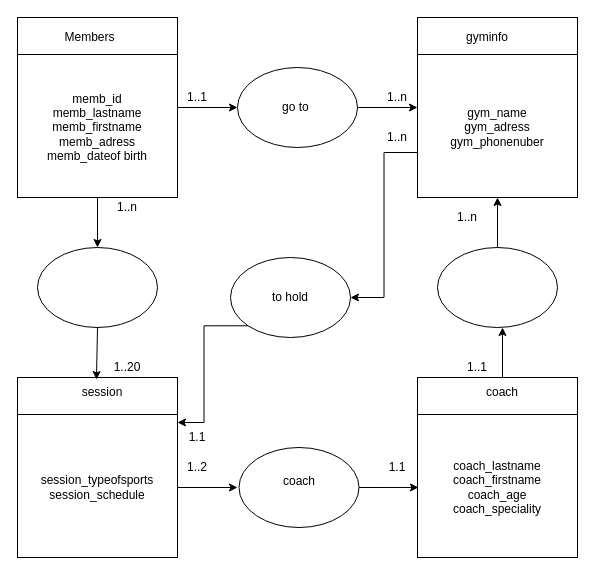
The diagram is 595 pixels wide and 575 high, and some of its shapes have lost their labels. The shapes that lost their labels are listed below. From the top down, each one's centre as x and y in pixels, then its label:
At (x=97, y=287): "to register in".
At (x=497, y=287): "work in a".
